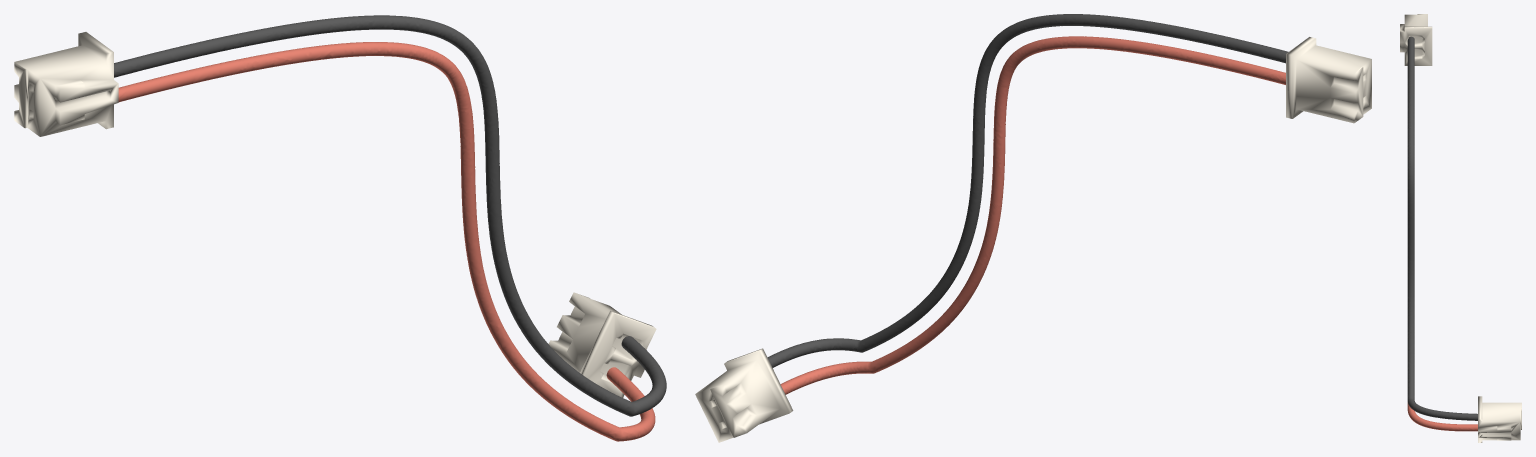
Rendered from kit201lc-jst.glb.
The picture shows the model from 3 angles, left to right: view 1: azimuth 30°, elevation 25°; view 2: azimuth 150°, elevation 25°; view 3: azimuth 270°, elevation 25°; orthographic projection. The views are drawn at different scales.
Parts seen in each view (by area): view 1: jst-material-0, jst-material-1, jst-material-2; view 2: jst-material-0, jst-material-1, jst-material-2; view 3: jst-material-1, jst-material-0, jst-material-2.
Part boxes in pixels (box(x1,y1,x2,y2)): jst-material-0: box(14, 32, 656, 397); jst-material-1: box(114, 15, 666, 416); jst-material-2: box(118, 42, 655, 441); jst-material-0: box(695, 37, 1371, 442); jst-material-1: box(767, 14, 1288, 367); jst-material-2: box(780, 36, 1285, 394); jst-material-1: box(1407, 36, 1477, 420); jst-material-0: box(1400, 14, 1521, 442); jst-material-2: box(1407, 402, 1477, 431).
Size of the model in its own units: 5.62 by 4.24 by 1.71.
